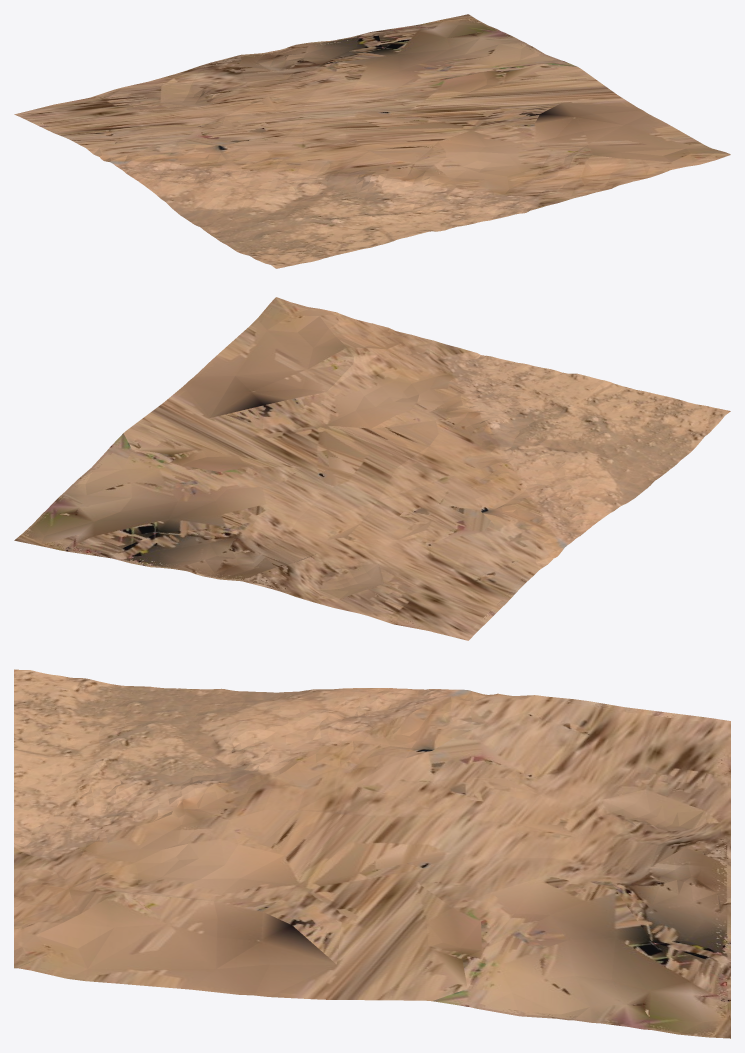
3 views of the same model, one above another, from view 1: azimuth 30°, elevation 25°; view 2: azimuth 150°, elevation 25°; view 3: azimuth 270°, elevation 25° (orthographic). The views are drawn at different scales.
Bounding box in the file's own units: 2.09 × 0.2265 × 2.09.
2 materials, 2 textured.
